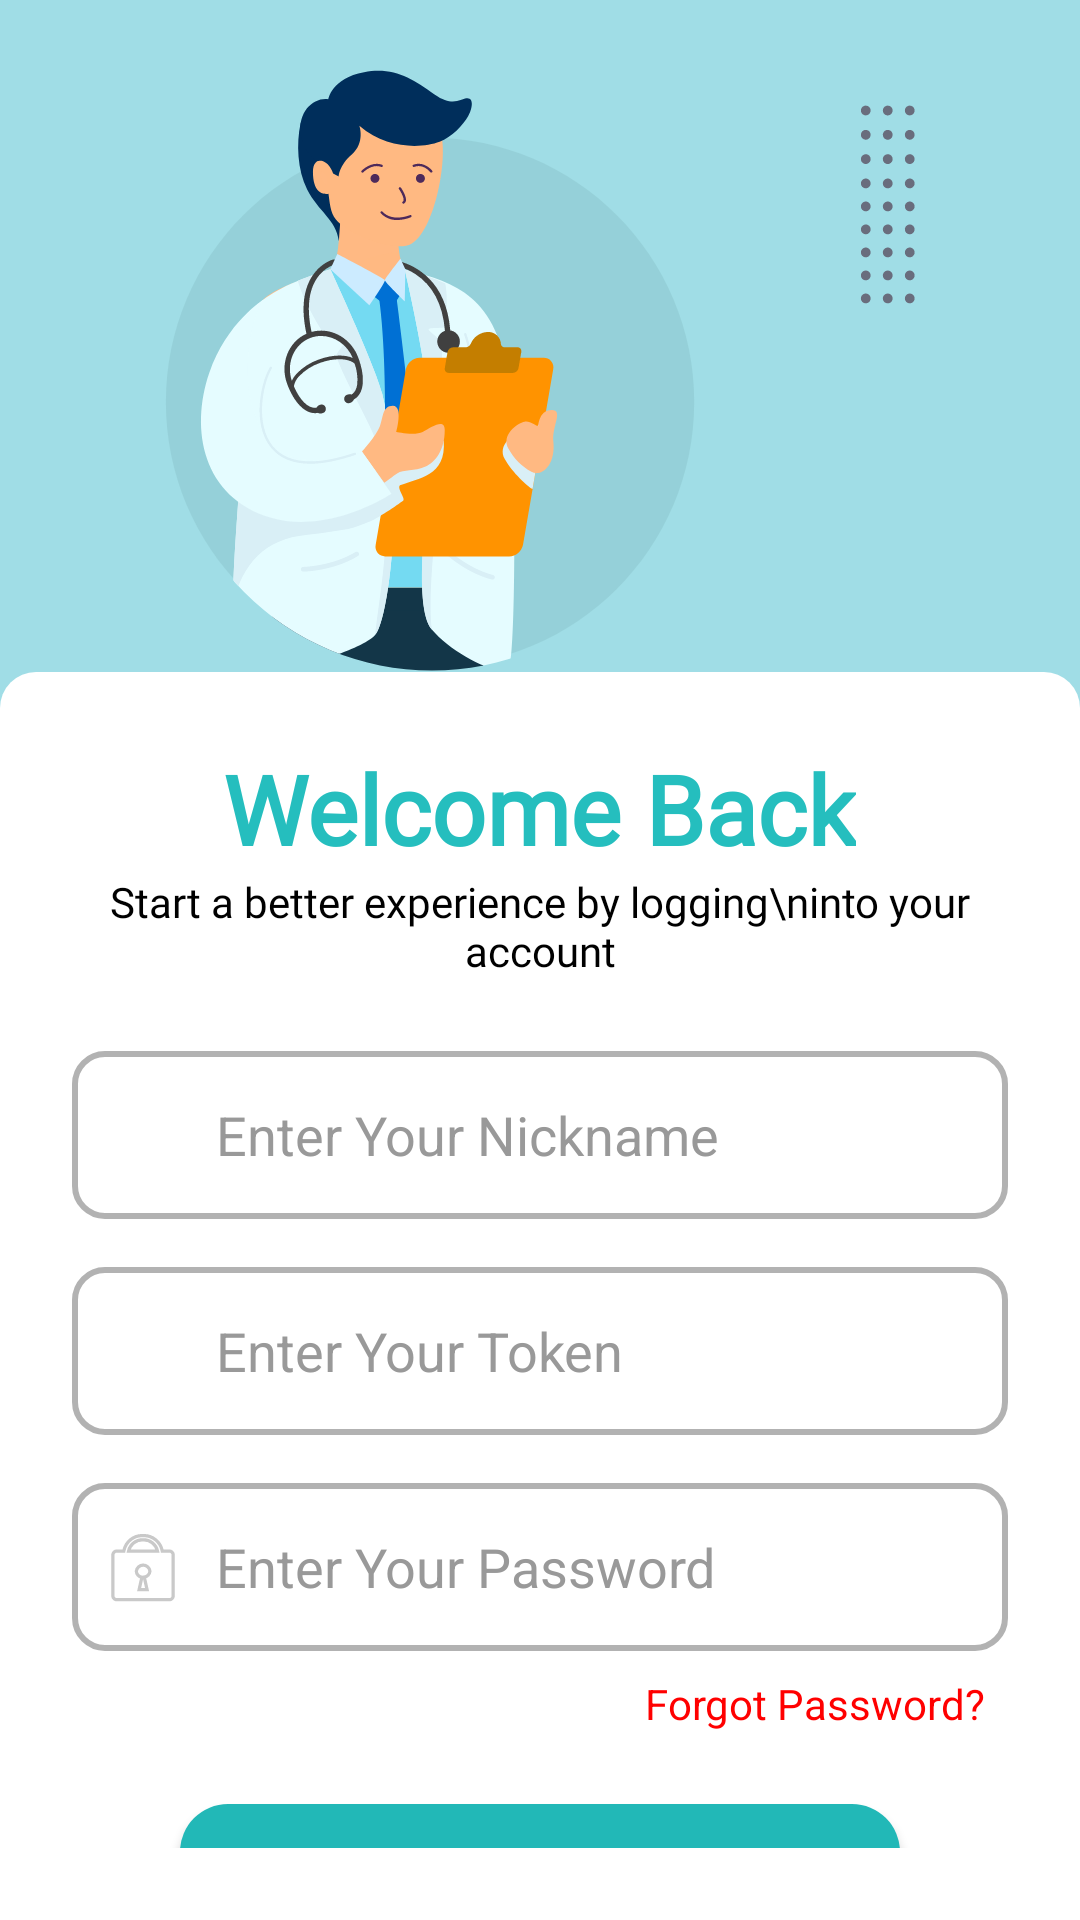

Where icons sit on this 1080w x 1920h app screen, as detection(x1, y1, x2, y2):
lockfield: detection(111, 1534, 175, 1601)
